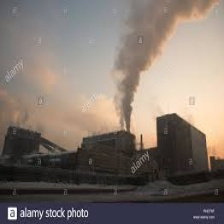smoke: (109, 1, 219, 139)
